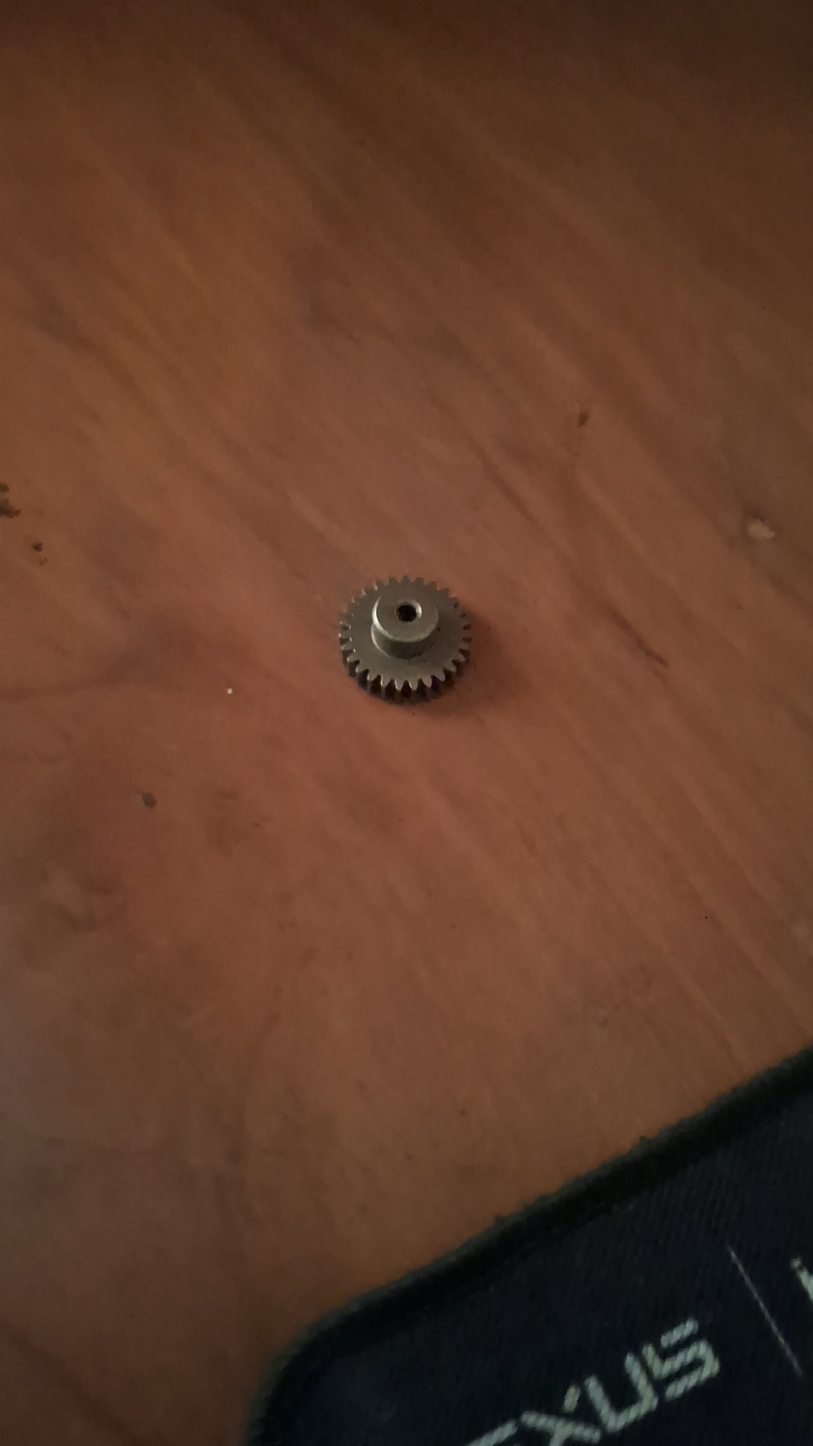spur gear: (340, 577, 470, 700)
